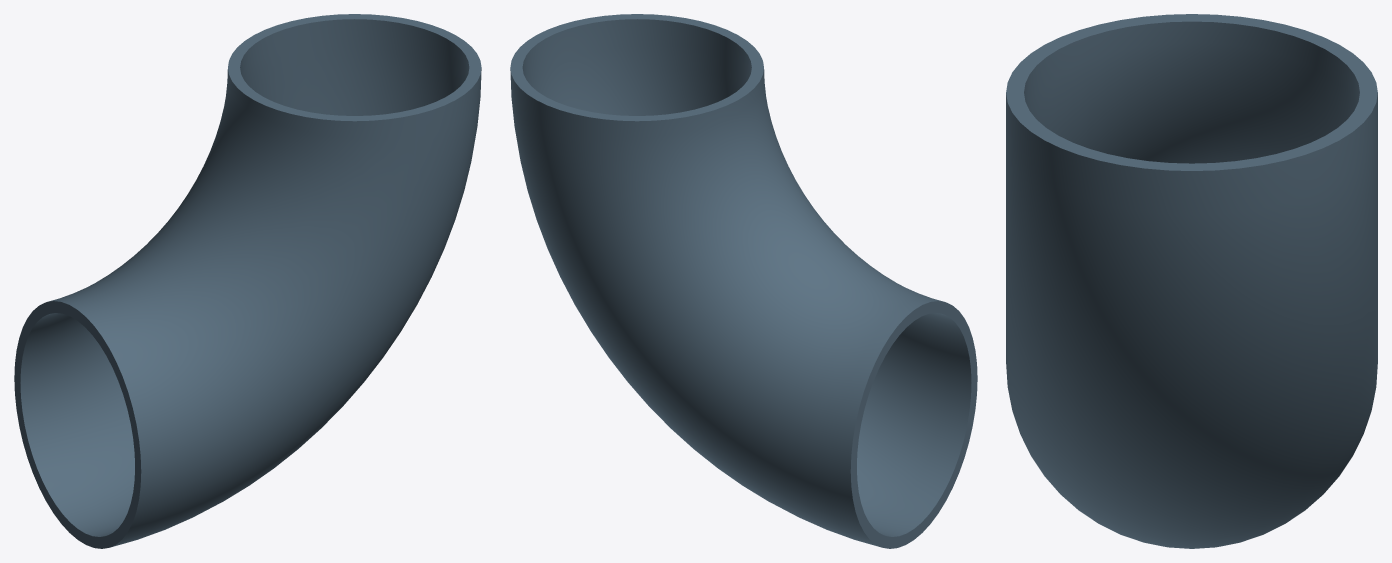
Rendered from otvod-90-60_3x2_9-R76.glb.
3 views of the same model, side by side, from view 1: azimuth 30°, elevation 25°; view 2: azimuth 150°, elevation 25°; view 3: azimuth 270°, elevation 25° (orthographic). The views are drawn at different scales.
Parts seen in each view (by area): view 1: Open CASCADE STEP translator 7.9 18; view 2: Open CASCADE STEP translator 7.9 18; view 3: Open CASCADE STEP translator 7.9 18.
Boxes of the visible parts, <box> form: Open CASCADE STEP translator 7.9 18: <box>14,14,481,548</box>; Open CASCADE STEP translator 7.9 18: <box>510,14,977,548</box>; Open CASCADE STEP translator 7.9 18: <box>1006,14,1377,548</box>.
Bounding box in the file's own units: 106 × 106 × 60.3.
